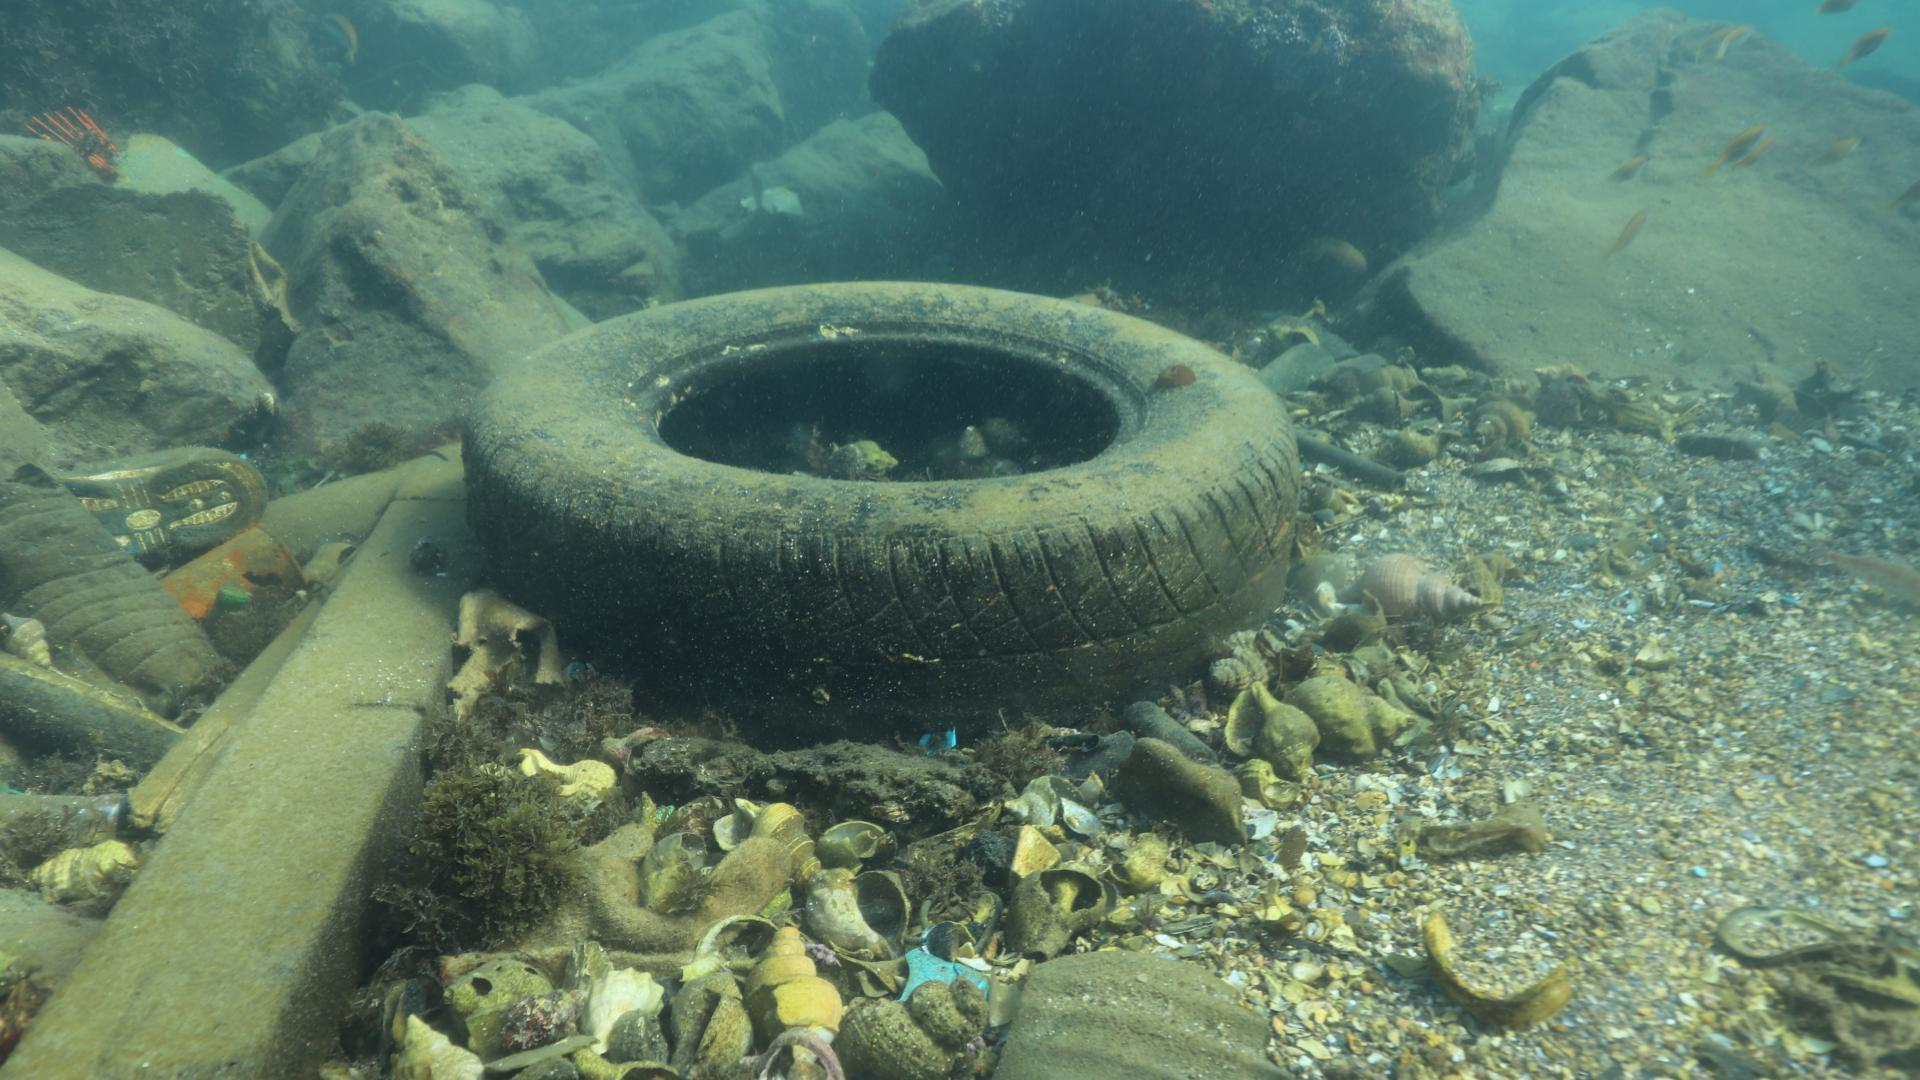tire: (454, 270, 1303, 737)
wood: (0, 459, 492, 1080)
